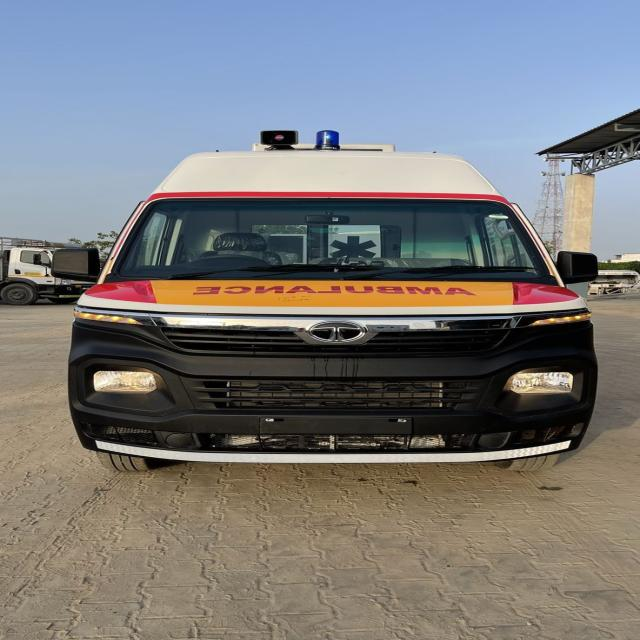Ambulance: (43, 124, 624, 494)
